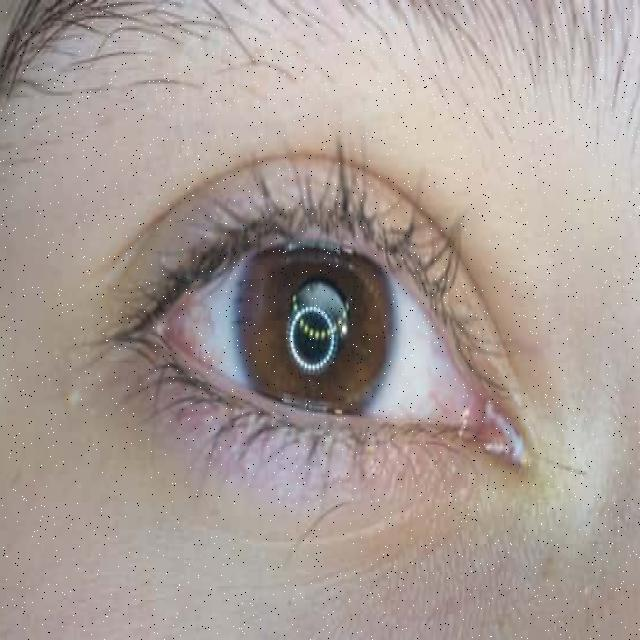Cataract: (109, 170, 529, 532)
